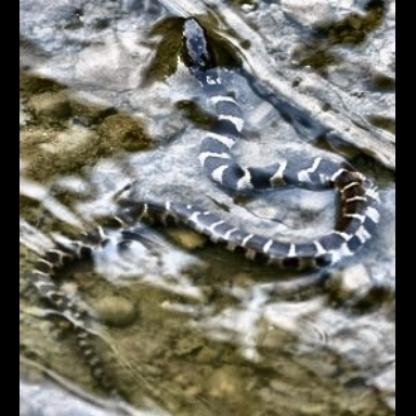Snake: (8, 10, 385, 414)
